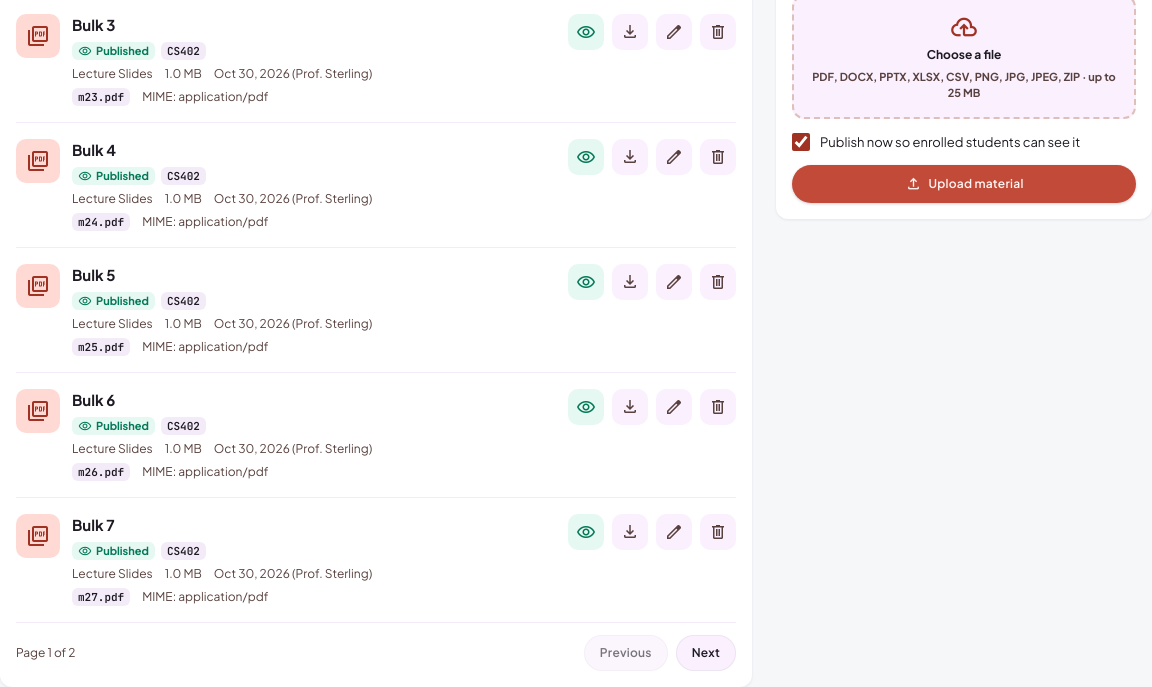
inventory › pages through long lists
(page scrolled)
expect the text "Page 1 of 2" is shown: met, box [16, 644, 76, 662]
Click the button "Next": {"x": 706, "y": 653} [676, 635, 736, 671]
(page scrolled)
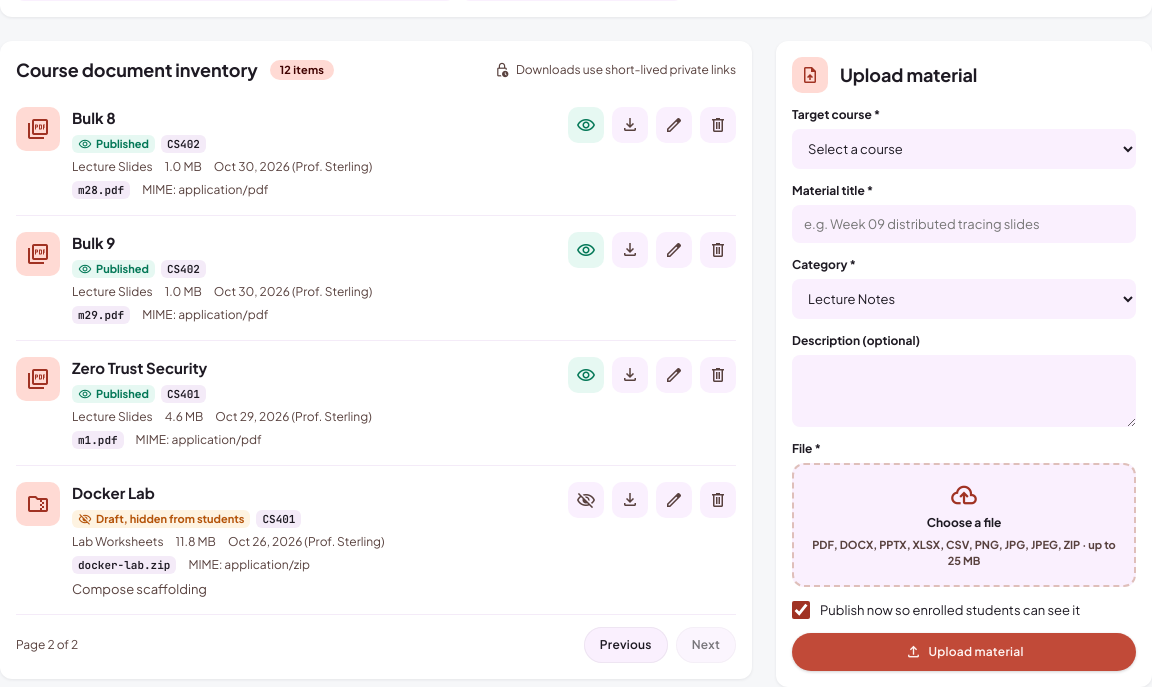
expect the text "Page 2 of 2" is shown: met, box [16, 636, 78, 654]
Click the button "Previous": {"x": 626, "y": 645} [584, 627, 668, 663]
(page scrolled)
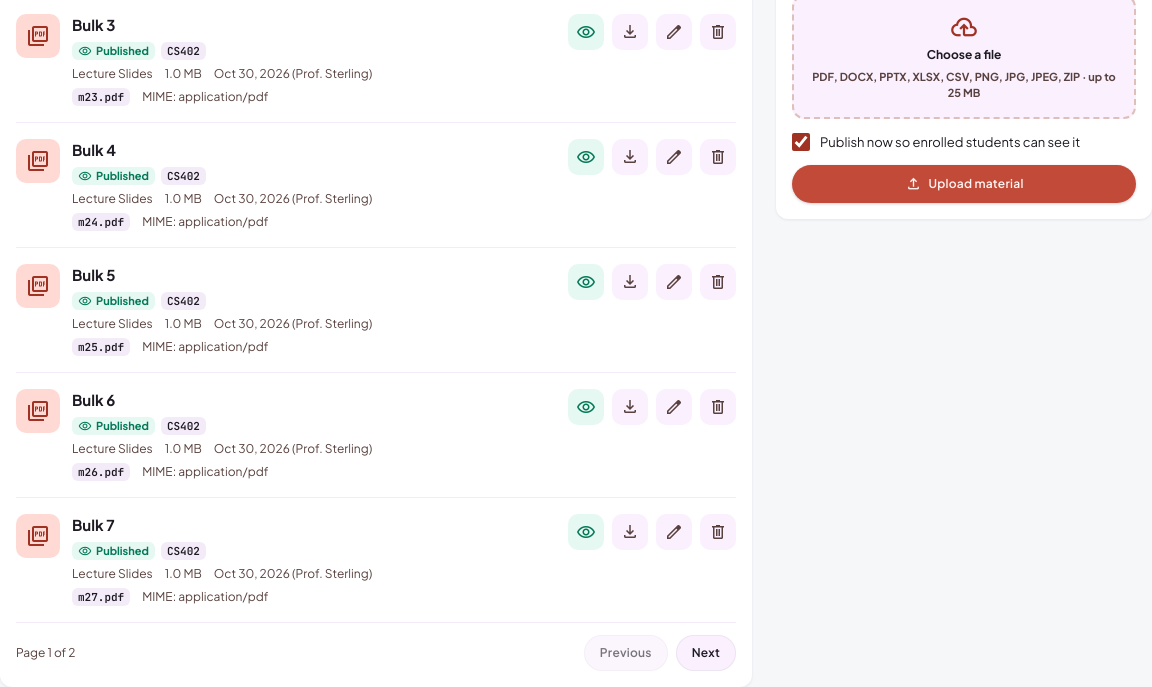
expect the text "Page 1 of 2" is shown: met, box [16, 644, 76, 662]
